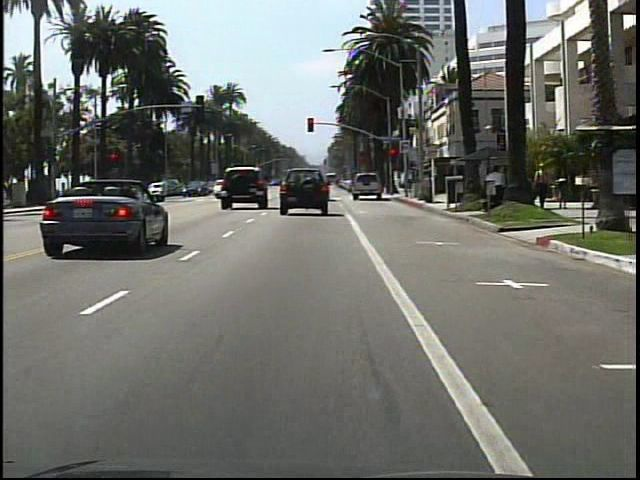person: (483, 163, 508, 211), (531, 159, 553, 212)
